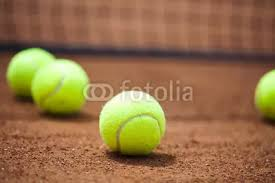tennis_ball: (99, 90, 165, 156), (32, 58, 90, 116), (5, 46, 58, 99), (254, 69, 275, 121)
